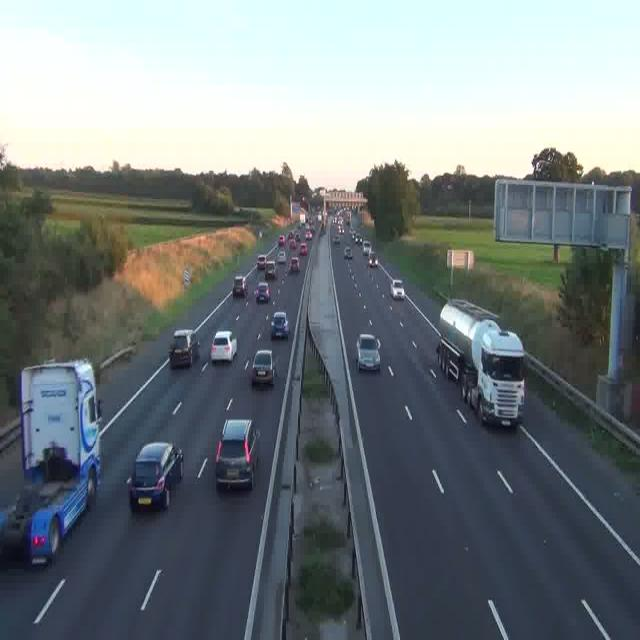car: (128, 442, 184, 509), (214, 419, 258, 492), (168, 329, 200, 368), (250, 349, 276, 386), (210, 330, 238, 362), (356, 334, 380, 371), (270, 311, 290, 338), (256, 281, 272, 302), (232, 276, 247, 297), (390, 278, 404, 299), (264, 262, 276, 279), (289, 257, 300, 273), (256, 256, 266, 272), (275, 250, 285, 264), (368, 252, 378, 266), (299, 244, 307, 256), (305, 232, 313, 243), (333, 234, 339, 245)
truck: (2, 360, 102, 565), (437, 298, 527, 426)
